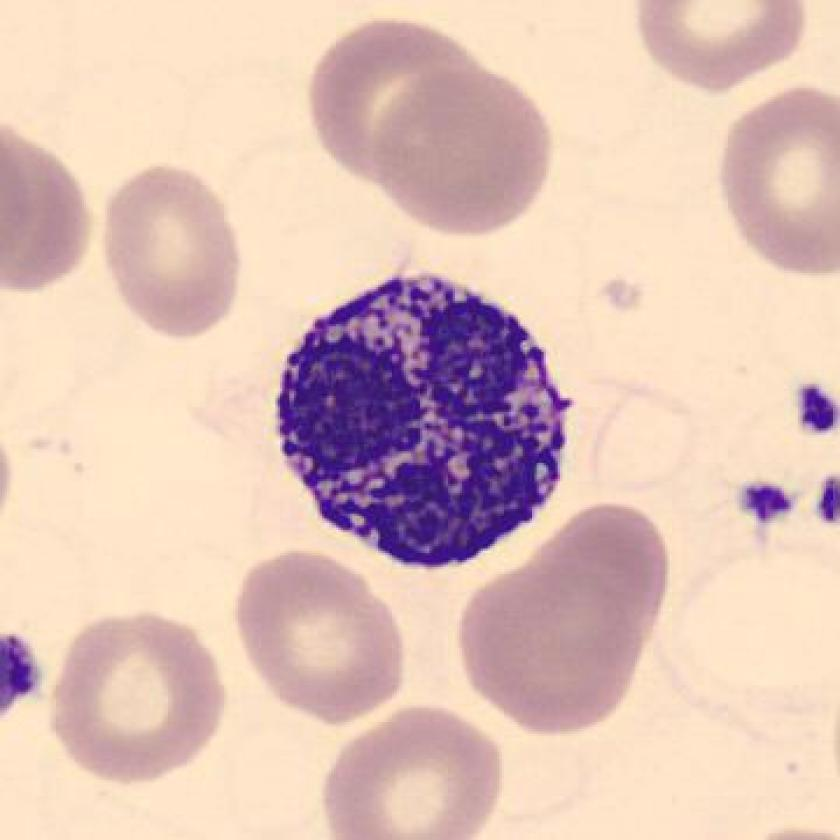basophil: (267, 256, 575, 580)
